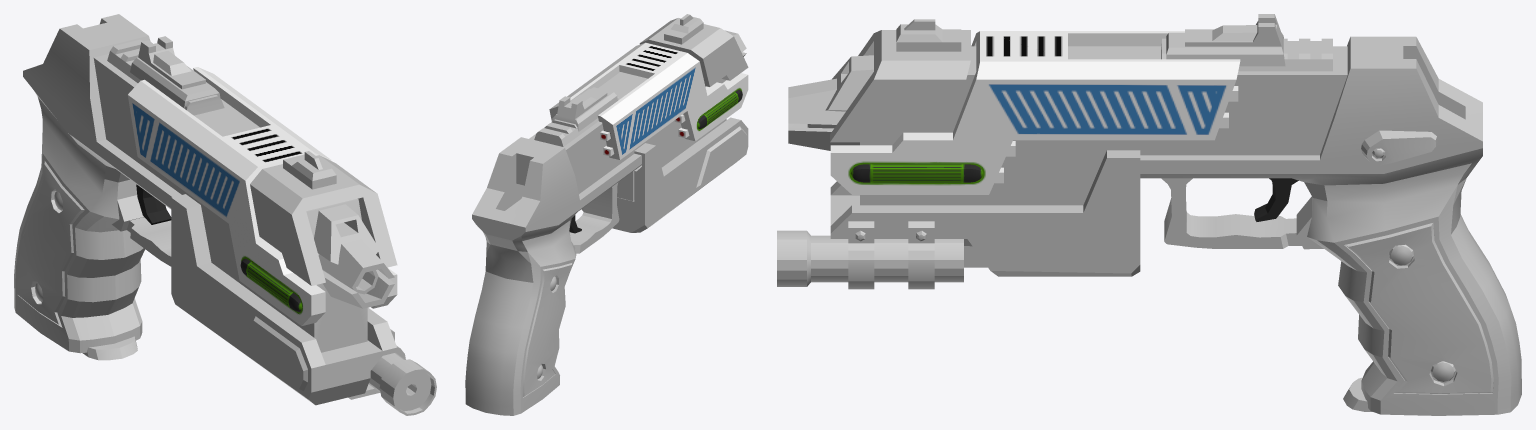
Rendered from RedlinePistol.fbx.
3 views of the same model, side by side, from view 1: azimuth 30°, elevation 25°; view 2: azimuth 150°, elevation 25°; view 3: azimuth 270°, elevation 25° (orthographic). The views are drawn at different scales.
Parts seen in each view (by area): view 1: Body, Slide, Trigger; view 2: Body, Slide; view 3: Body, Slide, Trigger.
Boxes of the visible parts, box(x1,y1,x2,y2) form: Body: box(14, 14, 436, 415); Slide: box(127, 67, 397, 325); Trigger: box(136, 184, 171, 224); Body: box(465, 14, 748, 415); Slide: box(549, 42, 748, 159); Body: box(777, 14, 1521, 415); Slide: box(830, 31, 1240, 194); Trigger: box(1254, 178, 1298, 221).
Size of the model in its own units: 21.77 by 66.76 by 117.
